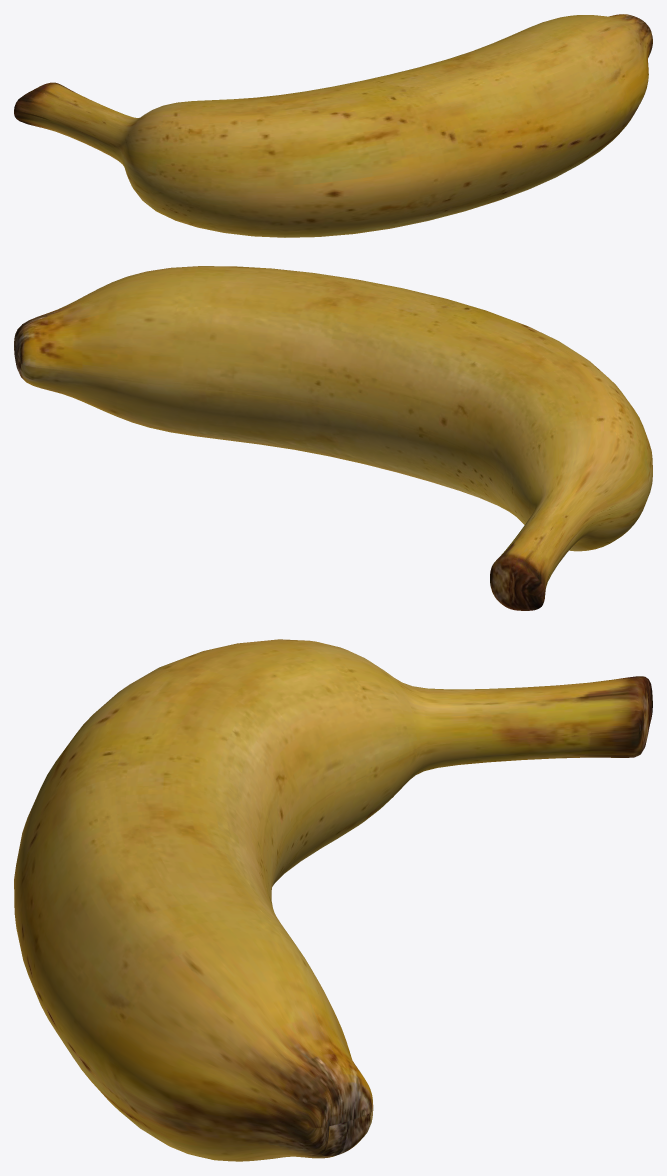
The model's file is banana_health.dae.
3 views of the same model, one above another, from view 1: azimuth 30°, elevation 25°; view 2: azimuth 150°, elevation 25°; view 3: azimuth 270°, elevation 25° (orthographic). The views are drawn at different scales.
Parts seen in each view (by area): view 1: banana; view 2: banana; view 3: banana.
Part boxes in pixels (x1,y1,x2,y2): banana: (14, 14, 652, 237); banana: (14, 266, 652, 610); banana: (14, 639, 652, 1161).
Bounding box in the file's own units: 0.3009 × 0.0698 × 0.1791.
